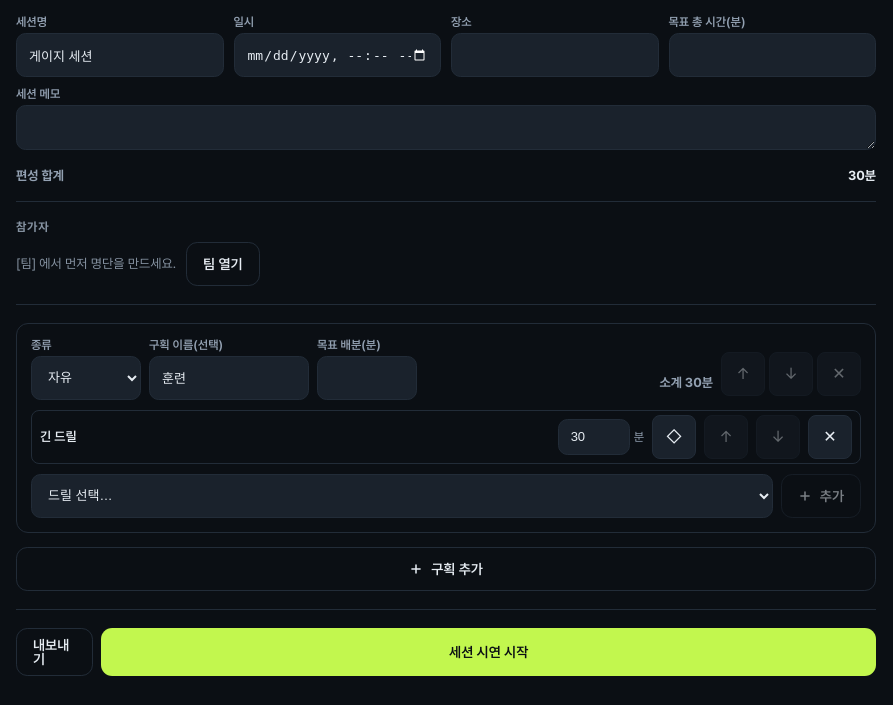
Test: SessionEditorScreen › 목표 총 시간을 적으면 게이지가 서고 초과가 색으로 표시된다 (강제 없음 — 질문 ⑮)
This screenshot has width=893, height=705.
Expected: the field labelled "세션명" is shown, top-left (16, 33), bottom-right (224, 77)
Type "20" into the number field labelled "목표 총 시간(분)" at (772,55), box top-left (668, 33), bottom-right (876, 77)
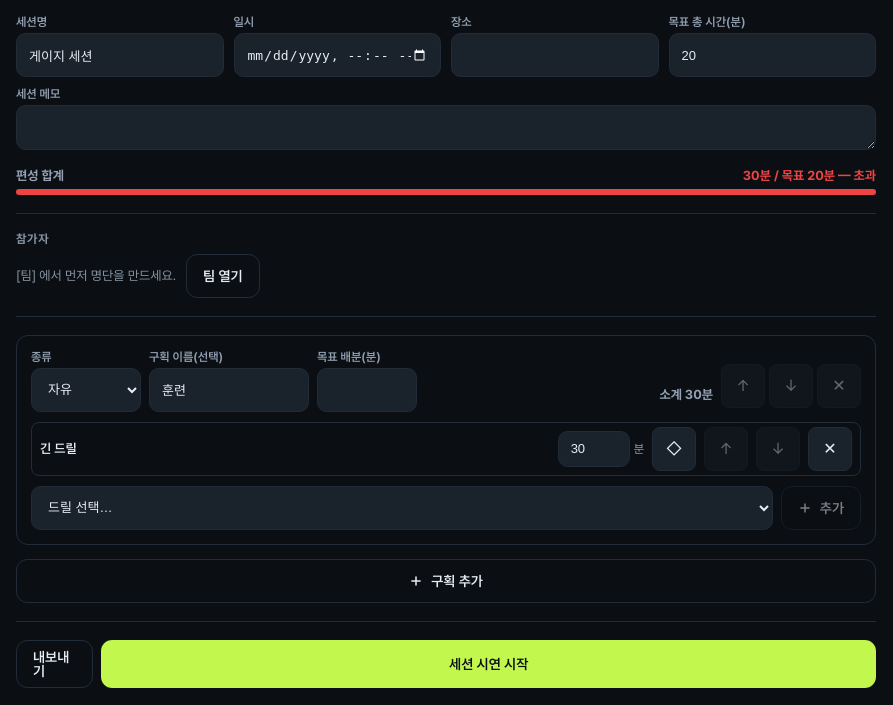
Now the text "30분 / 목표 20분 — 초과" is shown, box top-left (743, 168), bottom-right (876, 183)
